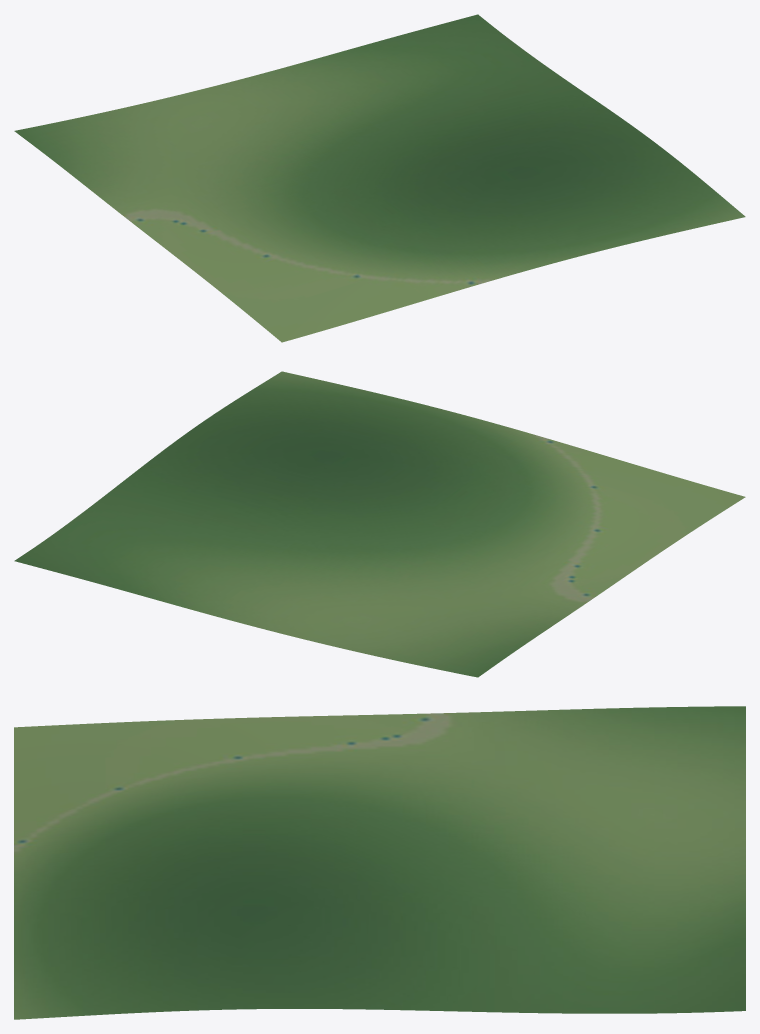
Rendered from terrain_T_E00_S01.glb.
3 views of the same model, one above another, from view 1: azimuth 30°, elevation 25°; view 2: azimuth 150°, elevation 25°; view 3: azimuth 270°, elevation 25° (orthographic). The views are drawn at different scales.
Visible parts, largest first — view 1: Terrain_T_E00_S01; view 2: Terrain_T_E00_S01; view 3: Terrain_T_E00_S01.
Part boxes in pixels (x1,y1,x2,y2): Terrain_T_E00_S01: (14, 14, 745, 342); Terrain_T_E00_S01: (14, 371, 745, 677); Terrain_T_E00_S01: (14, 706, 745, 1019).
Bounding box in the file's own units: 2000 × 101 × 2000.
Materials: 1 (1 with a texture image).
